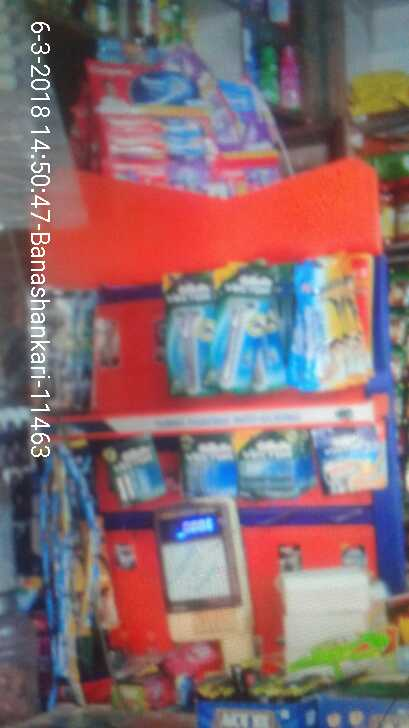gillette: (35, 453, 104, 705), (291, 261, 374, 394), (216, 268, 284, 399), (163, 269, 209, 392), (320, 426, 391, 498), (237, 433, 298, 500), (183, 428, 235, 495), (119, 437, 154, 506)
